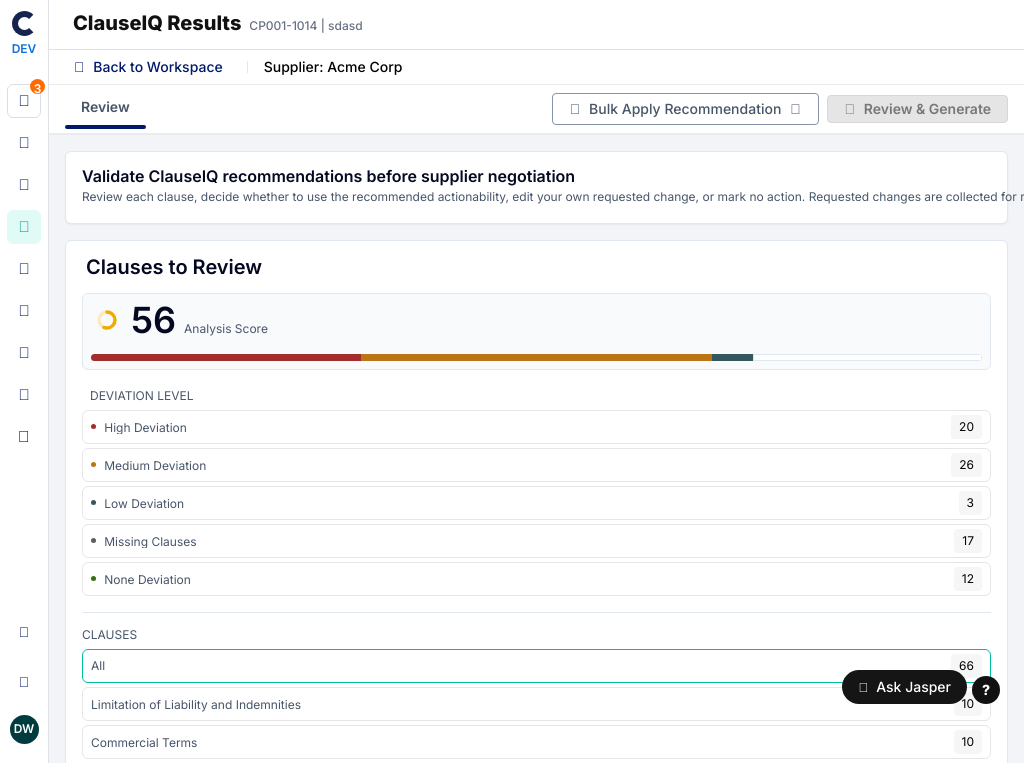
Prototype CP v2 result dashboard › uses CP-specific storage for apply and undo recommendations
Click the button " Bulk Apply Recommendation ".
click(685, 109)  # box left=552, top=93, right=819, bottom=125
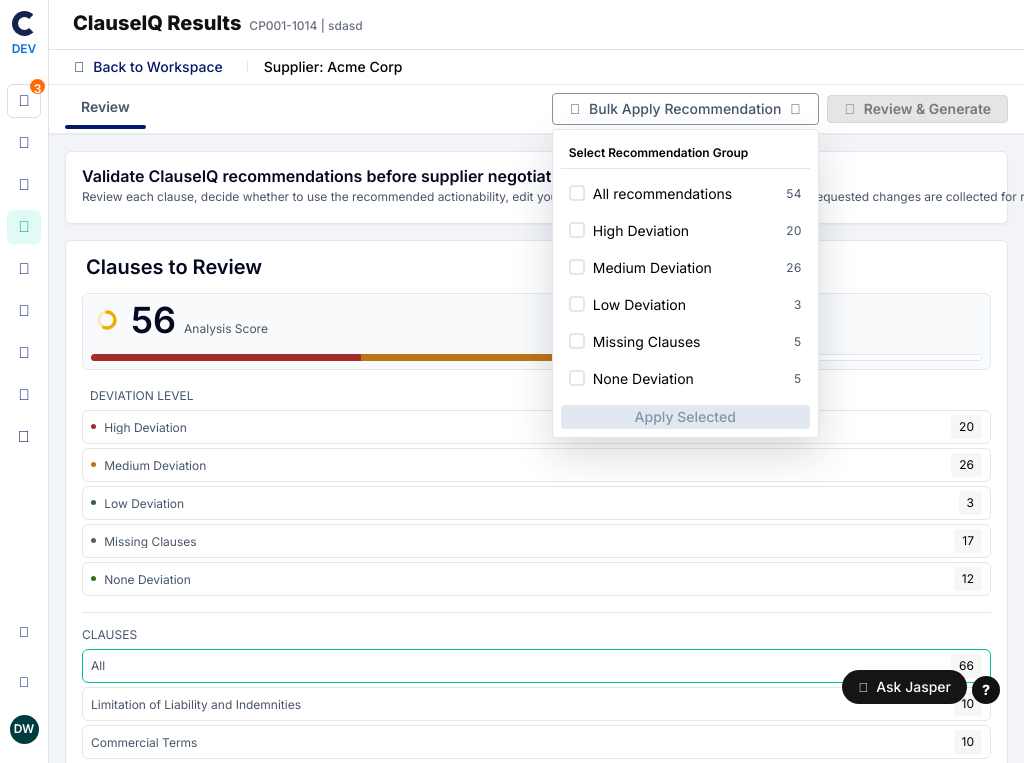
Click the menu item "High Deviation 20".
click(685, 230)  # box left=569, top=222, right=802, bottom=239
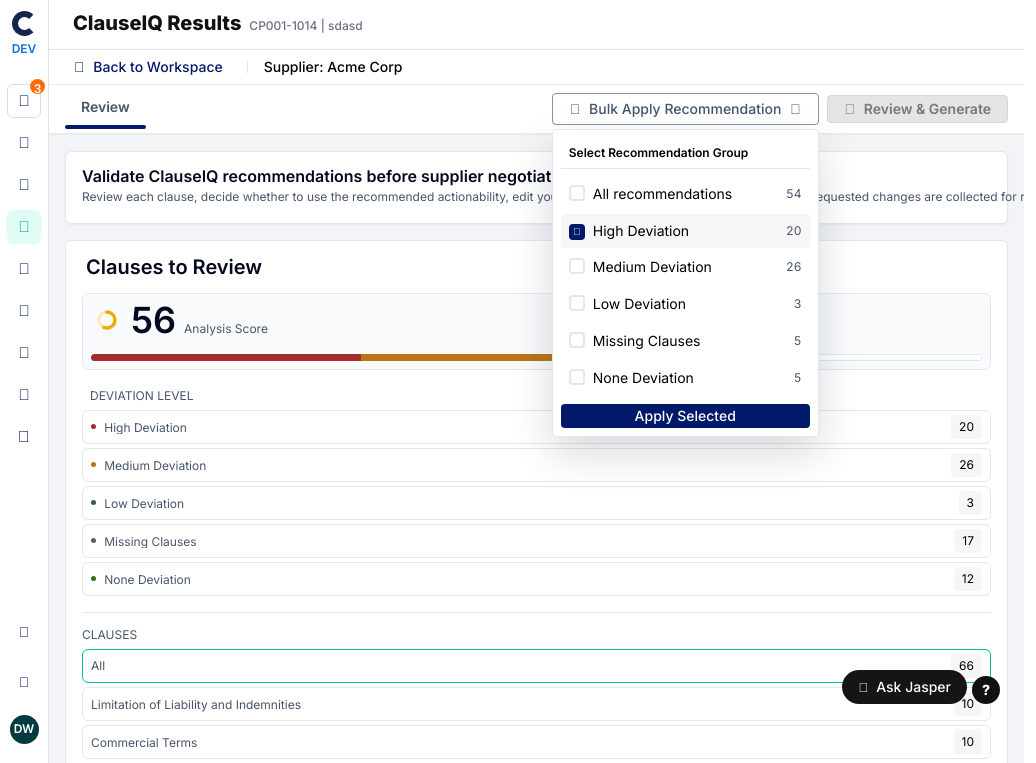
Click the button "Apply Selected".
click(685, 416)  # box left=561, top=404, right=810, bottom=428
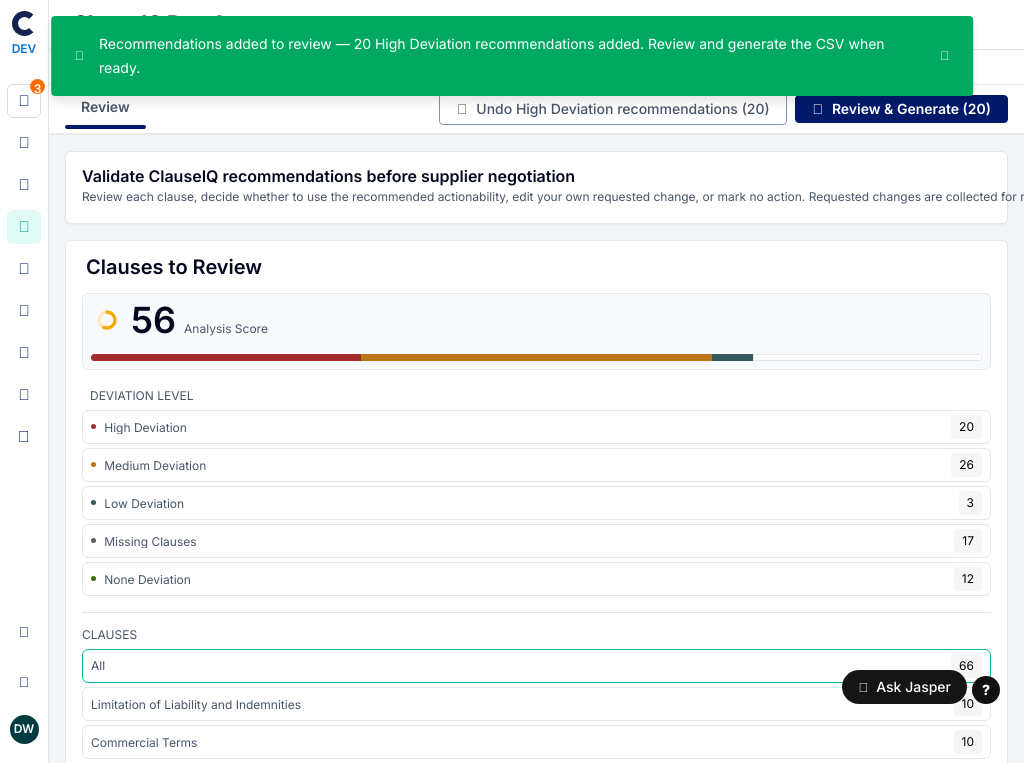
Expected: the button " Undo High Deviation recommendations (20)" is shown
Click the button " Undo High Deviation recommendations (20)".
click(613, 109)  # box left=439, top=93, right=787, bottom=125
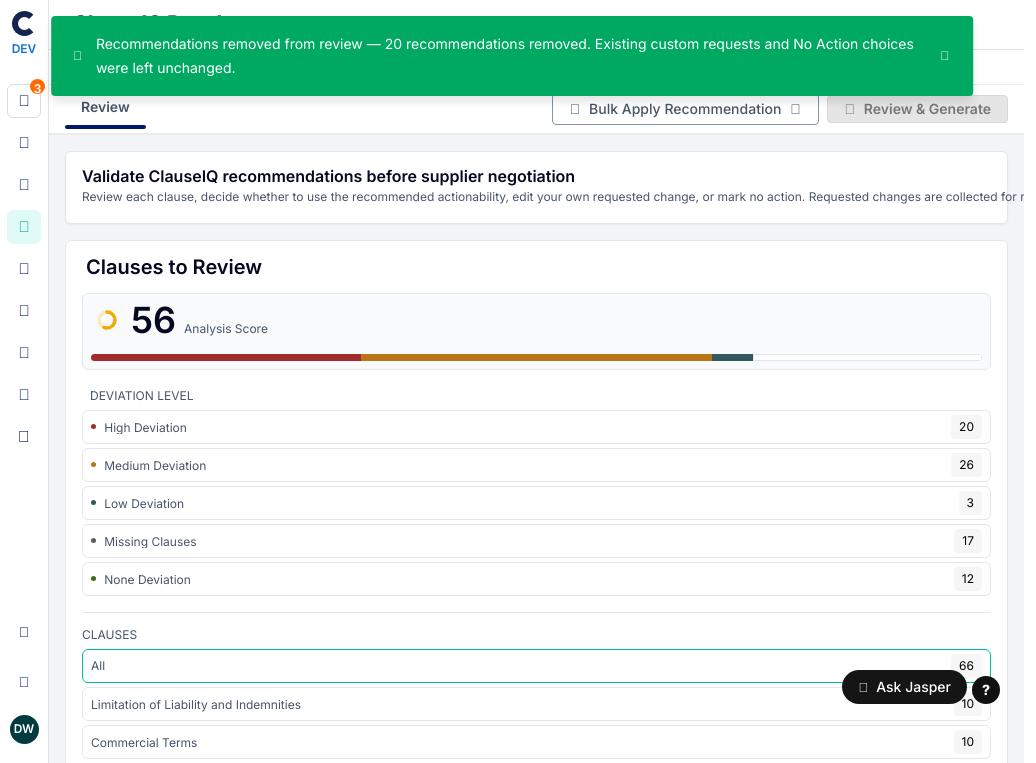
Expected: the button "Undo High Deviation recommendations" is gone
Expected: the button " Bulk Apply Recommendation " is shown, left=552, top=93, right=819, bottom=125
